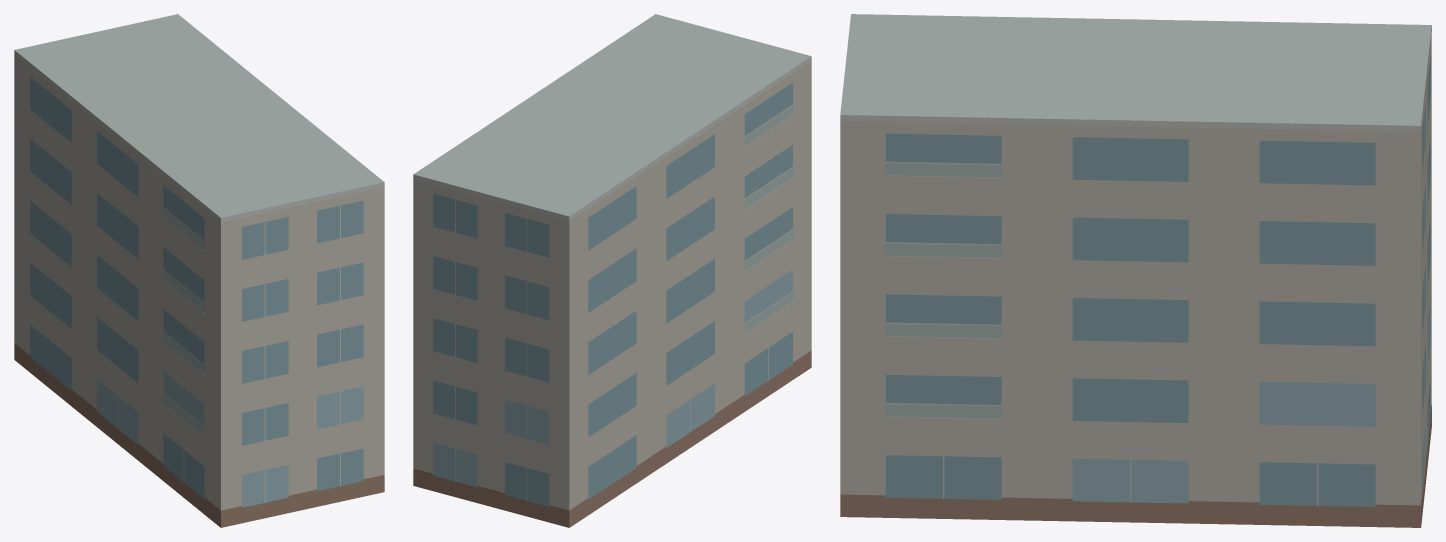
The model's file is survey-upis-32653431.glb.
3 views of the same model, side by side, from view 1: azimuth 30°, elevation 25°; view 2: azimuth 150°, elevation 25°; view 3: azimuth 270°, elevation 25° (orthographic). The views are drawn at different scales.
Parts seen in each view (by area): view 1: survey-upis-32653431.tmp; view 2: survey-upis-32653431.tmp; view 3: survey-upis-32653431.tmp.
Boxes of the visible parts, x1,y1,x2,y2 form: survey-upis-32653431.tmp: [14, 14, 384, 527]; survey-upis-32653431.tmp: [413, 14, 811, 527]; survey-upis-32653431.tmp: [840, 14, 1431, 527].
Size of the model in its own units: 9.5 by 15.9 by 21.22.
